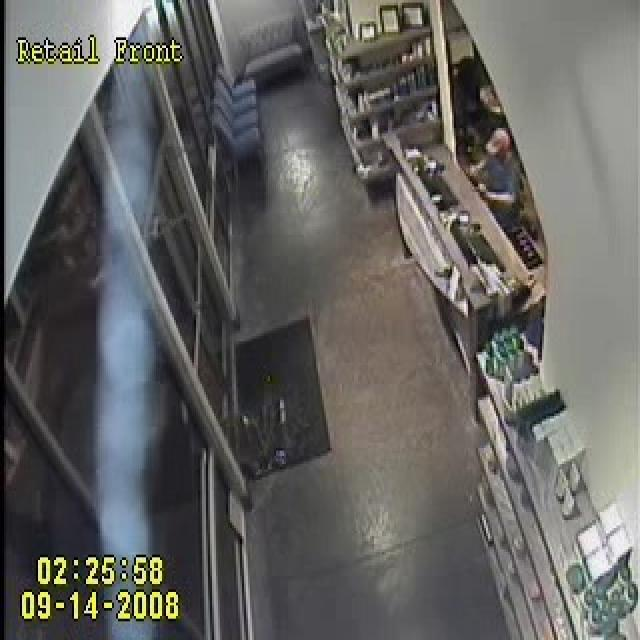thief: (461, 130, 521, 268)
